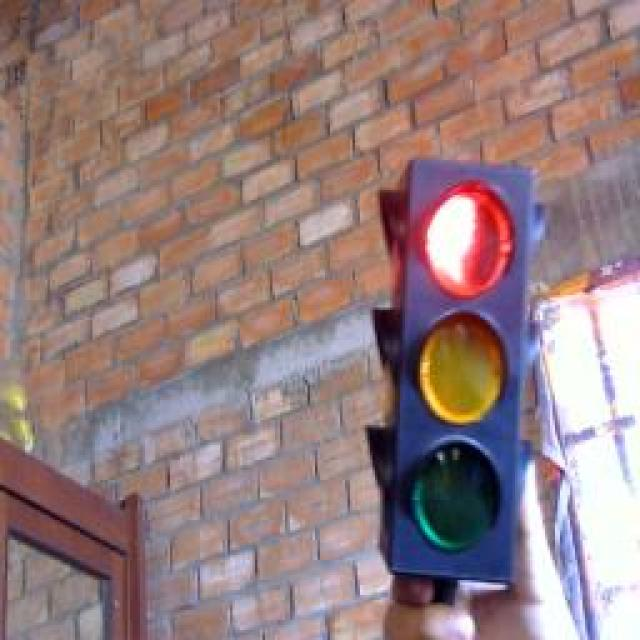-: (420, 170, 517, 300)
